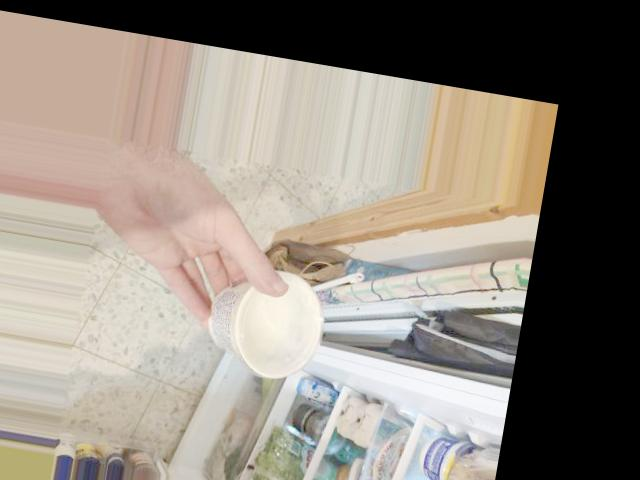cotage: (198, 275, 340, 371)
